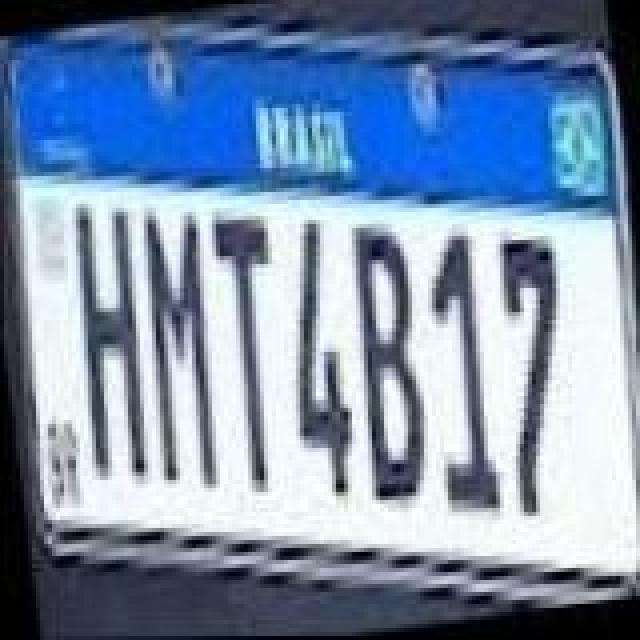1: (410, 228, 506, 520)
4: (268, 210, 360, 502)
7: (486, 234, 590, 522)
B: (334, 216, 438, 512)
H: (58, 194, 162, 490)
M: (126, 198, 230, 502)
T: (212, 204, 304, 496)
